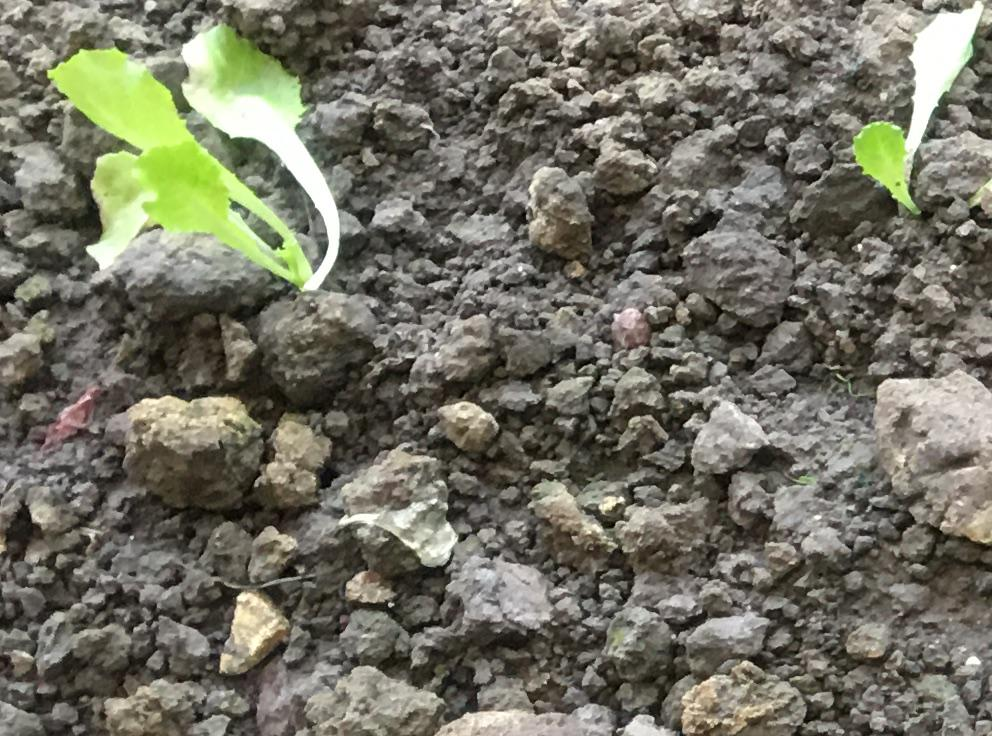block: (873, 375, 992, 536), (339, 447, 455, 576), (125, 394, 251, 505), (257, 294, 378, 408)
